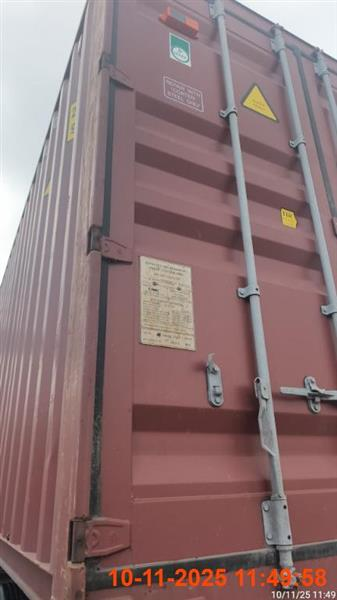hole: (1, 1, 335, 598)
